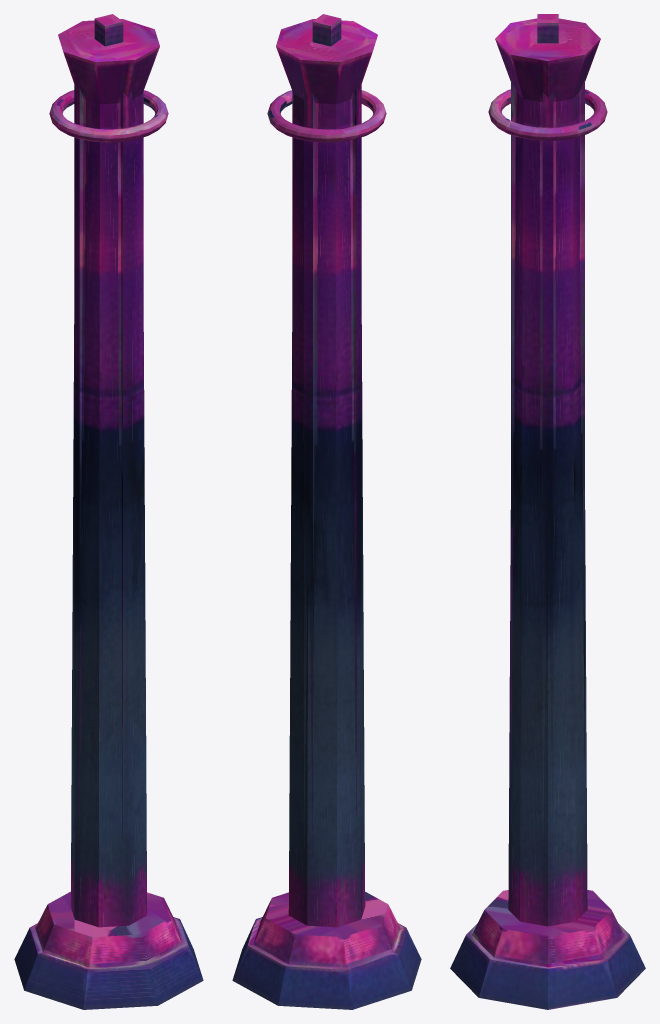
The model's file is support-column-texture-wrap-2026-05-15T01-11-18-615Z.glb.
3 renders of one model, left to right at view 1: azimuth 30°, elevation 25°; view 2: azimuth 150°, elevation 25°; view 3: azimuth 270°, elevation 25°, orthographic.
Parts seen in each view (by area): view 1: world; view 2: world; view 3: world.
Part boxes in pixels (left/top/right/bottom): world: left=14, top=14, right=203, bottom=1009; world: left=232, top=14, right=421, bottom=1009; world: left=450, top=14, right=645, bottom=1009.
Size of the model in its own units: 1.48 by 7.92 by 1.48.
1 material, 1 textured.
